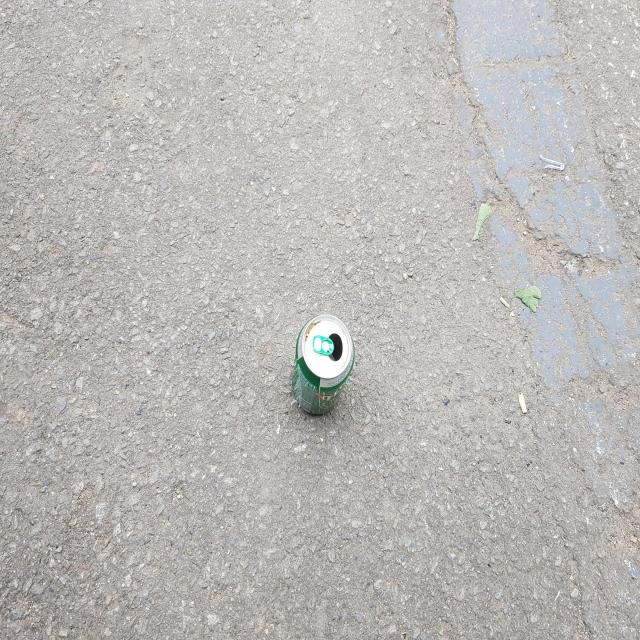can: (292, 314, 355, 414)
